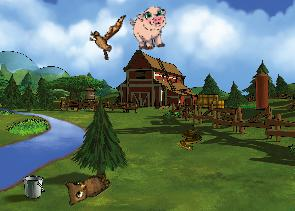eagle: (87, 12, 126, 61)
owl: (58, 161, 112, 210)
pig: (128, 5, 172, 52)
